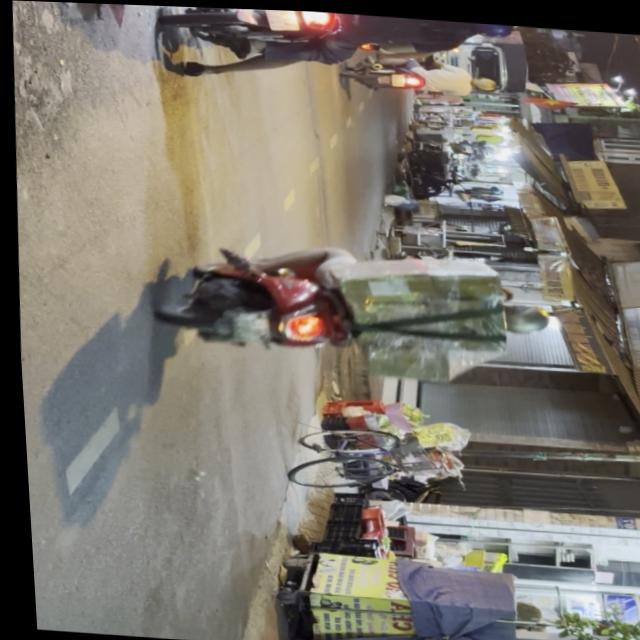helmet: (493, 298, 552, 336), (468, 19, 518, 39)
licenseplate: (140, 230, 562, 380), (159, 5, 527, 94)
nohelmet: (228, 308, 266, 342), (265, 8, 300, 30)
